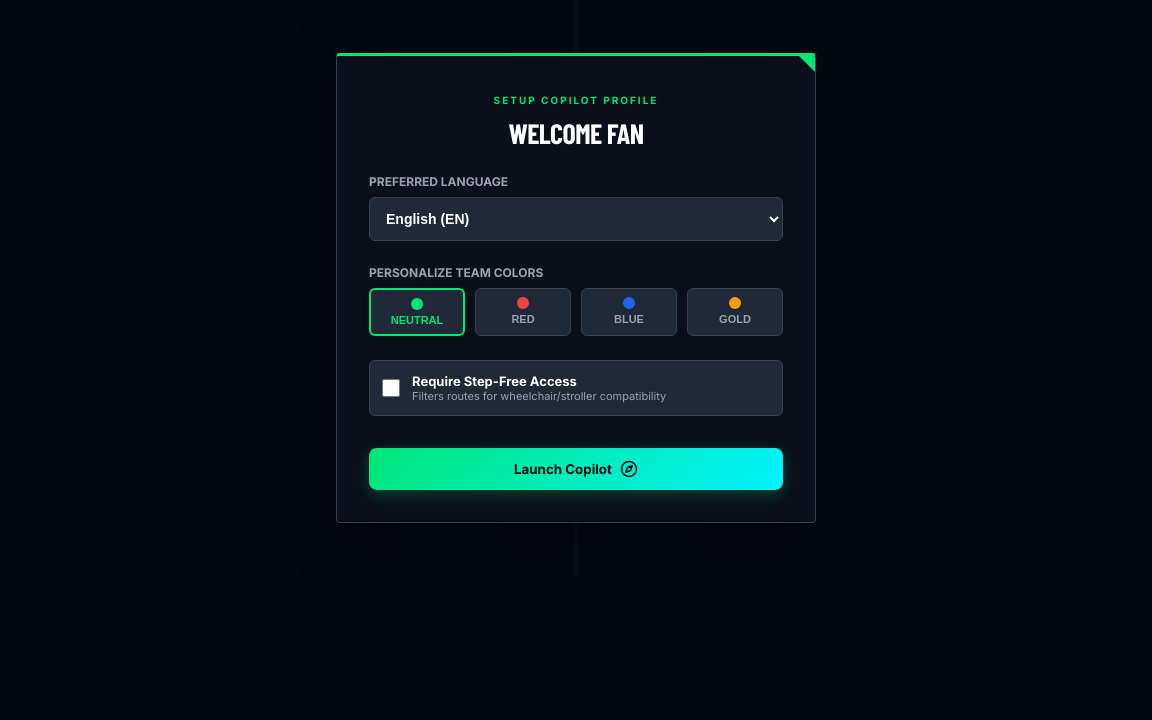
Test case: FanChat Component › allows message input and submission
Click the button "Launch Copilot" at (576, 469), box [369,448,783,490]
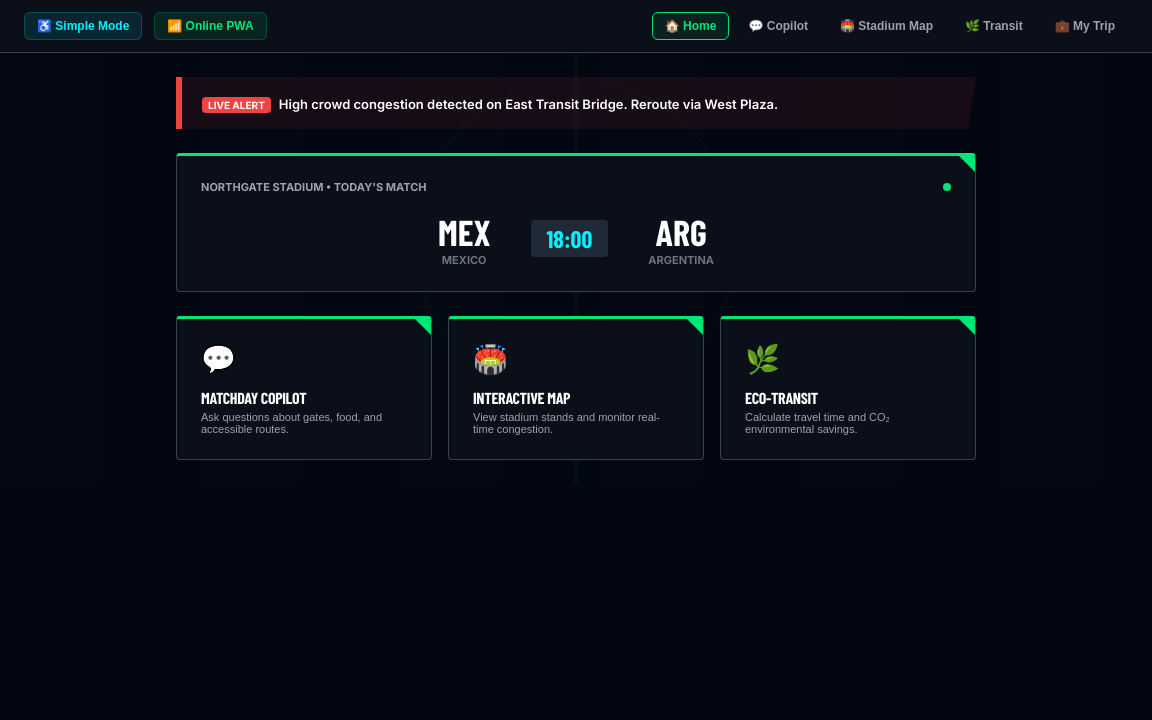
Click the button "💬 Copilot" at (778, 26), box [735,12,821,40]
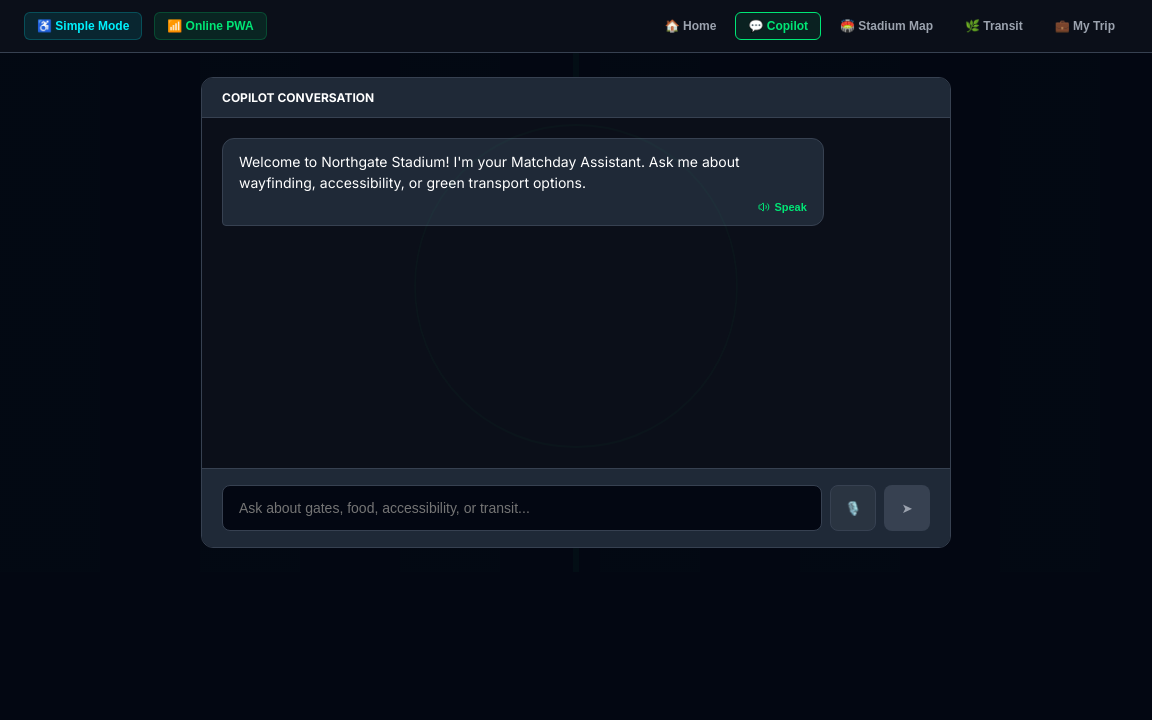
Type "How do I find Gate A?" into the field with placeholder "Ask about gates, food, accessibility, or transit..." at (522, 508), box [222,485,822,531]
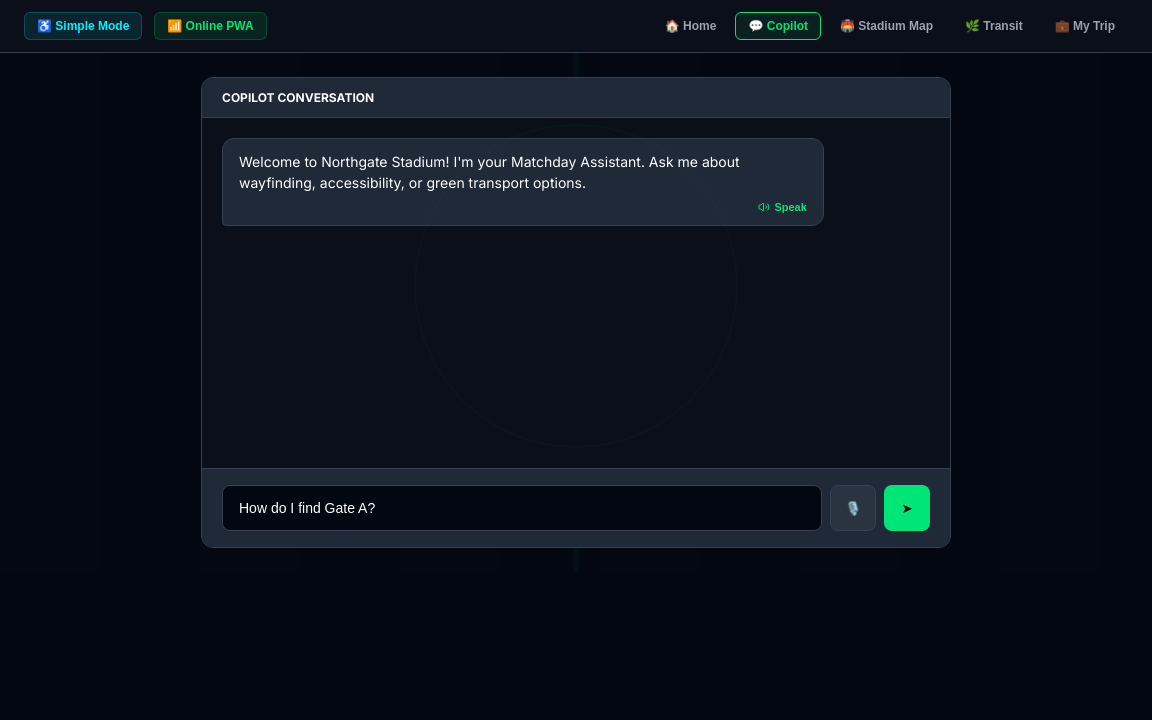
Click the button named "Send message" at (907, 508), box [884,485,930,531]
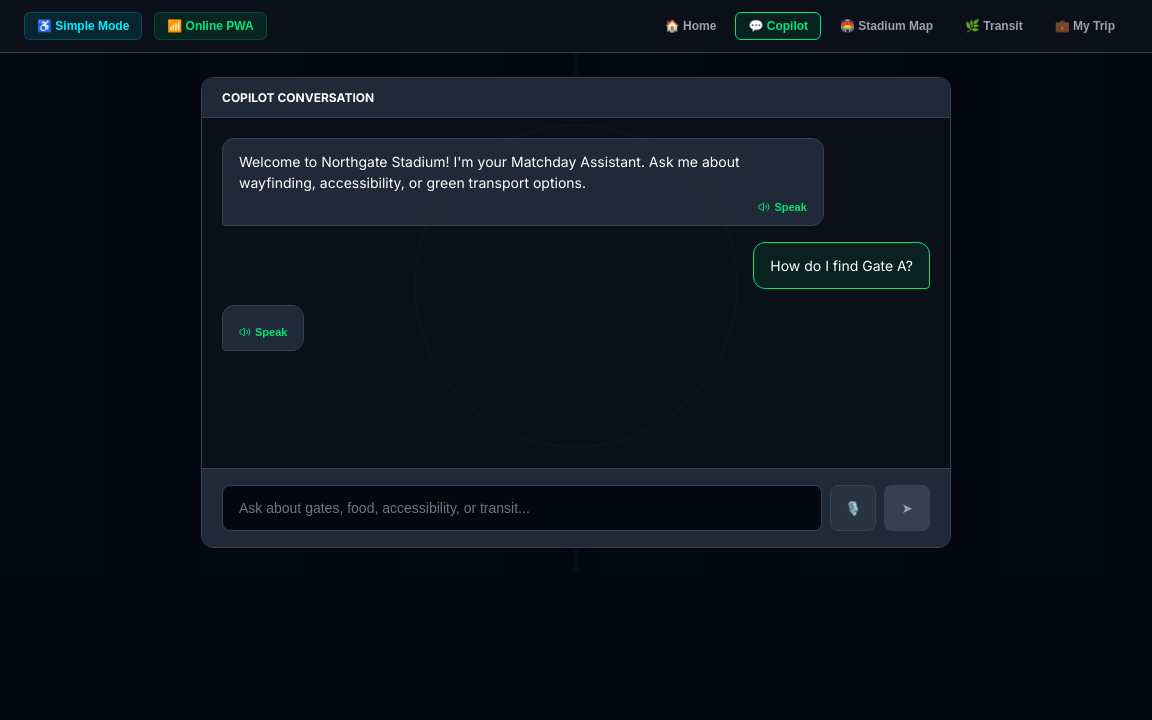
Now the text "How do I find Gate A?" is shown, box [770,255,913,276]
